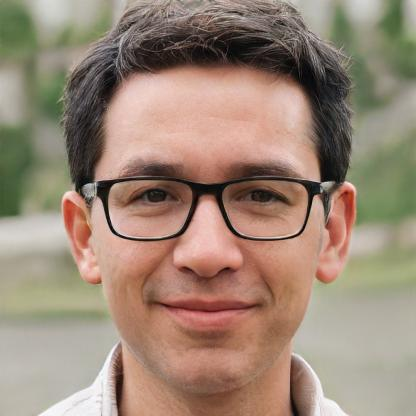glasses: (96, 168, 325, 246)
